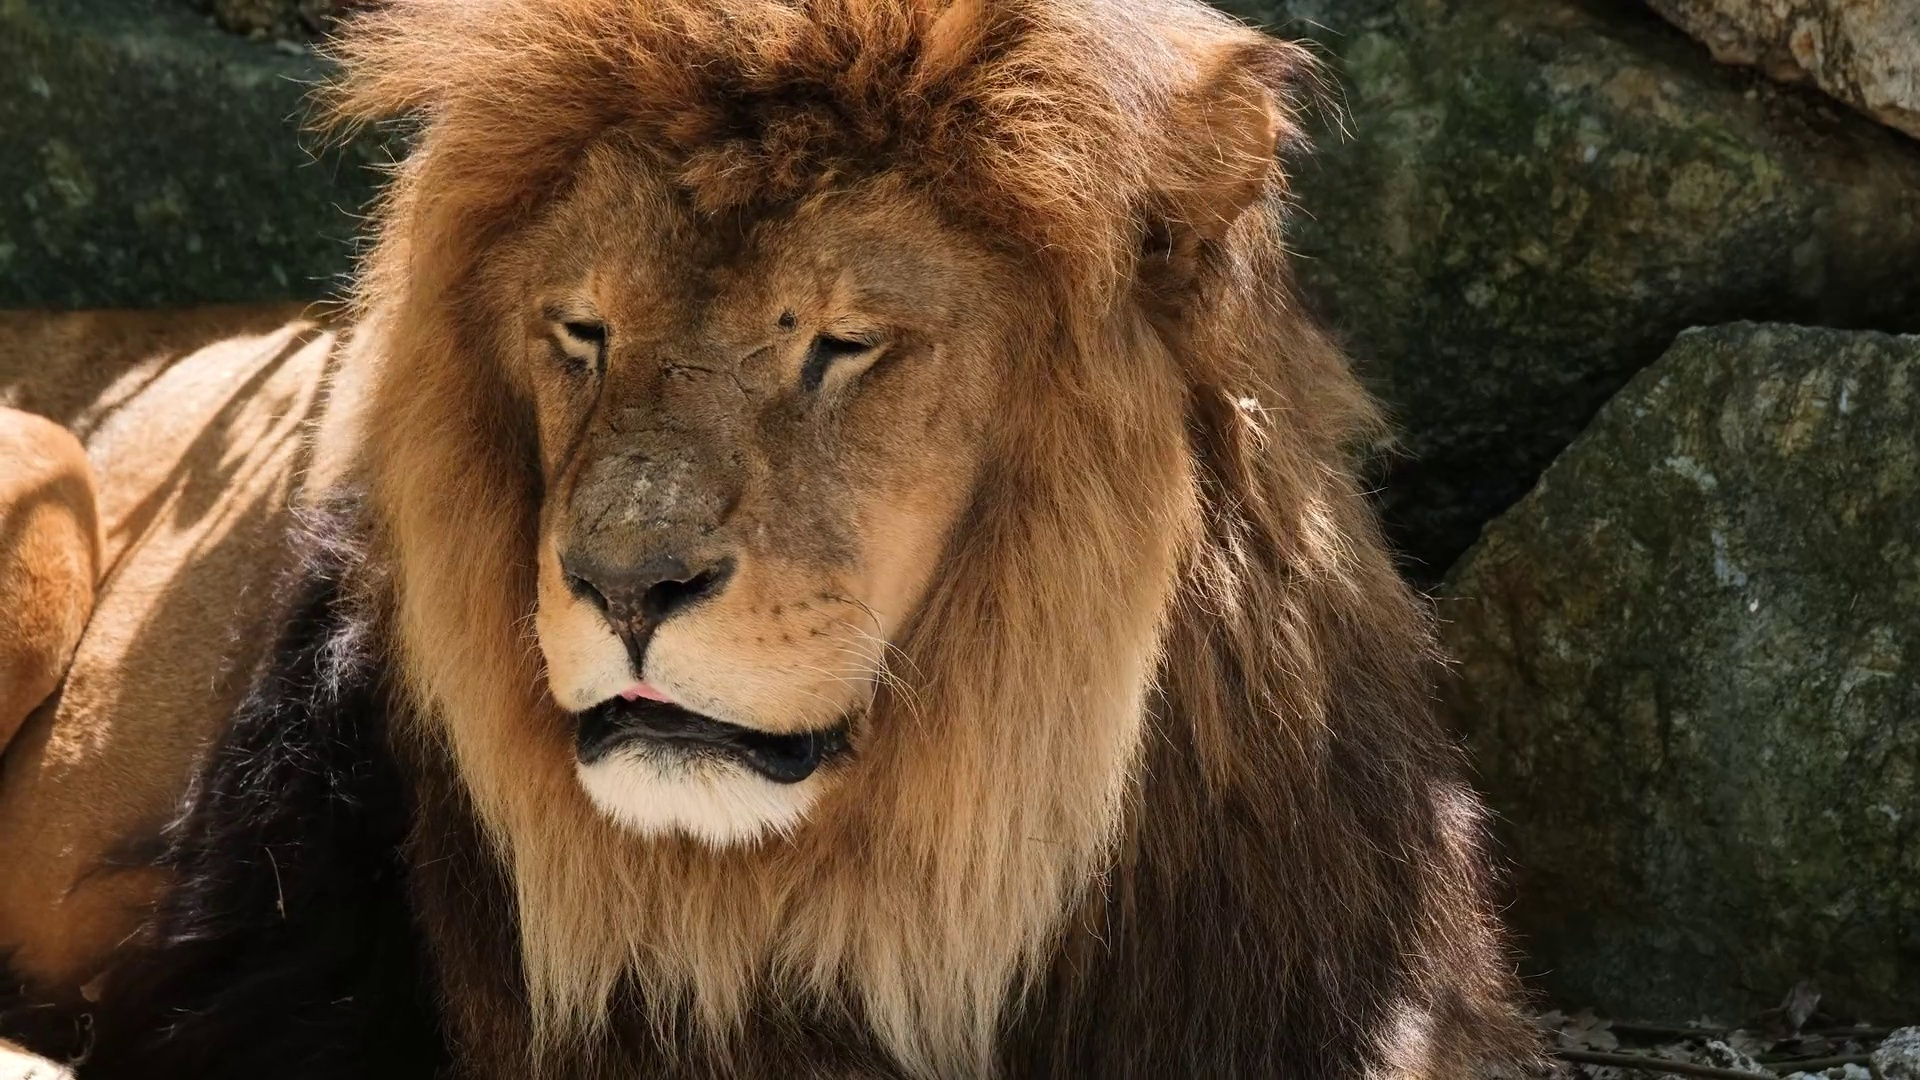Lion: (3, 3, 1549, 1080)
